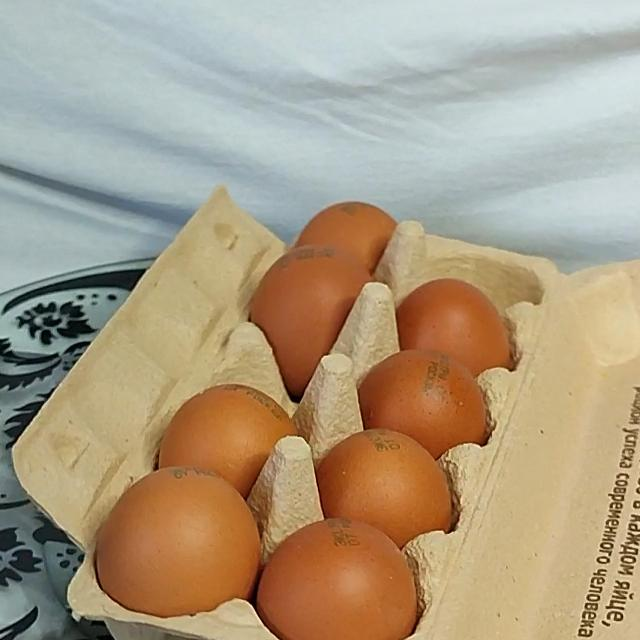egg: (33, 176, 640, 640)
